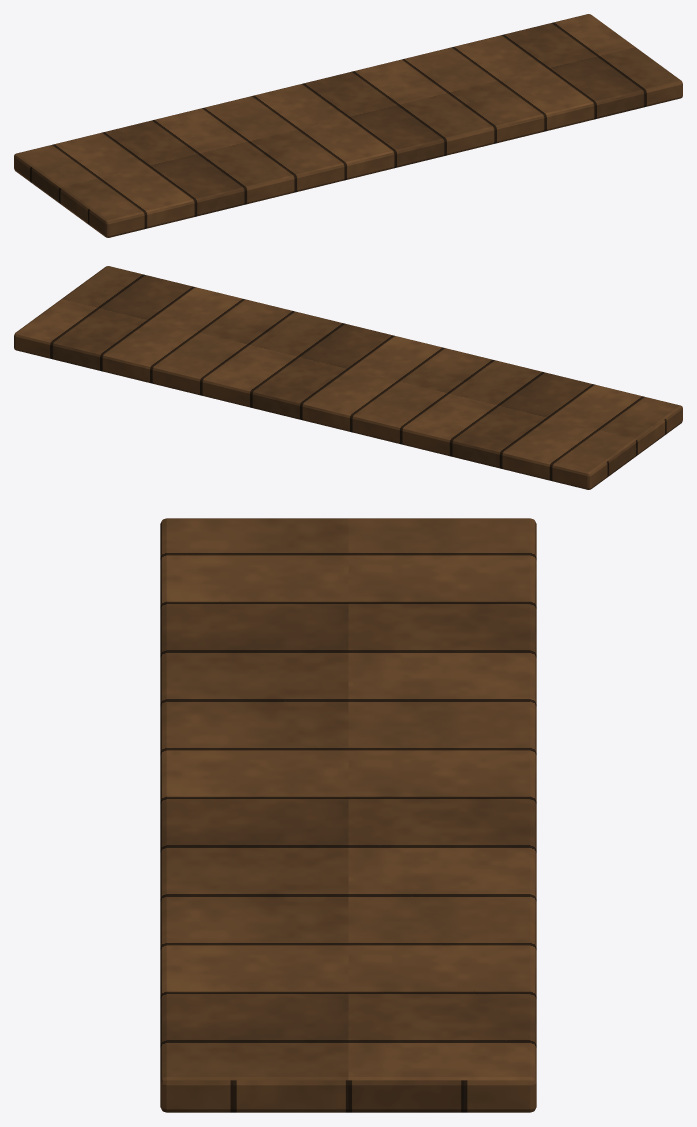
Rendered from Street_Bench0.obj.
The picture shows the model from 3 angles, top to bottom: view 1: azimuth 30°, elevation 25°; view 2: azimuth 150°, elevation 25°; view 3: azimuth 270°, elevation 25°; orthographic projection. The views are drawn at different scales.
Size of the model in its own units: 1.7 by 0.05 by 0.48.
1 material, 1 textured.
